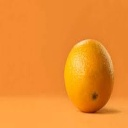orange: (62, 37, 115, 115)
